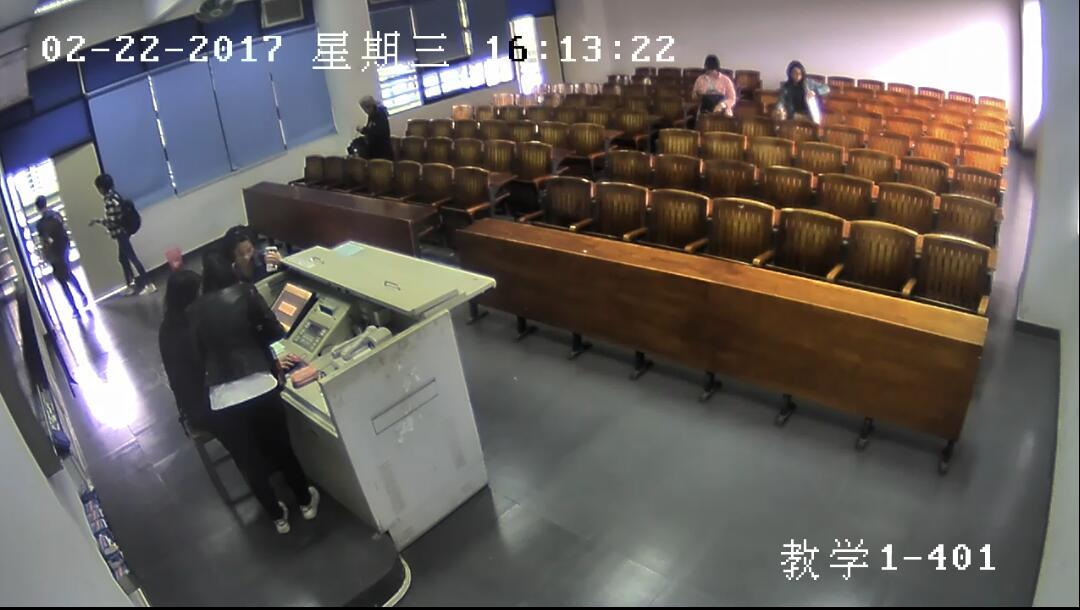head: (165, 269, 204, 321), (200, 248, 237, 293), (223, 225, 257, 265), (93, 170, 115, 195), (785, 59, 805, 85), (702, 52, 721, 78), (358, 94, 378, 115), (33, 194, 48, 214)
